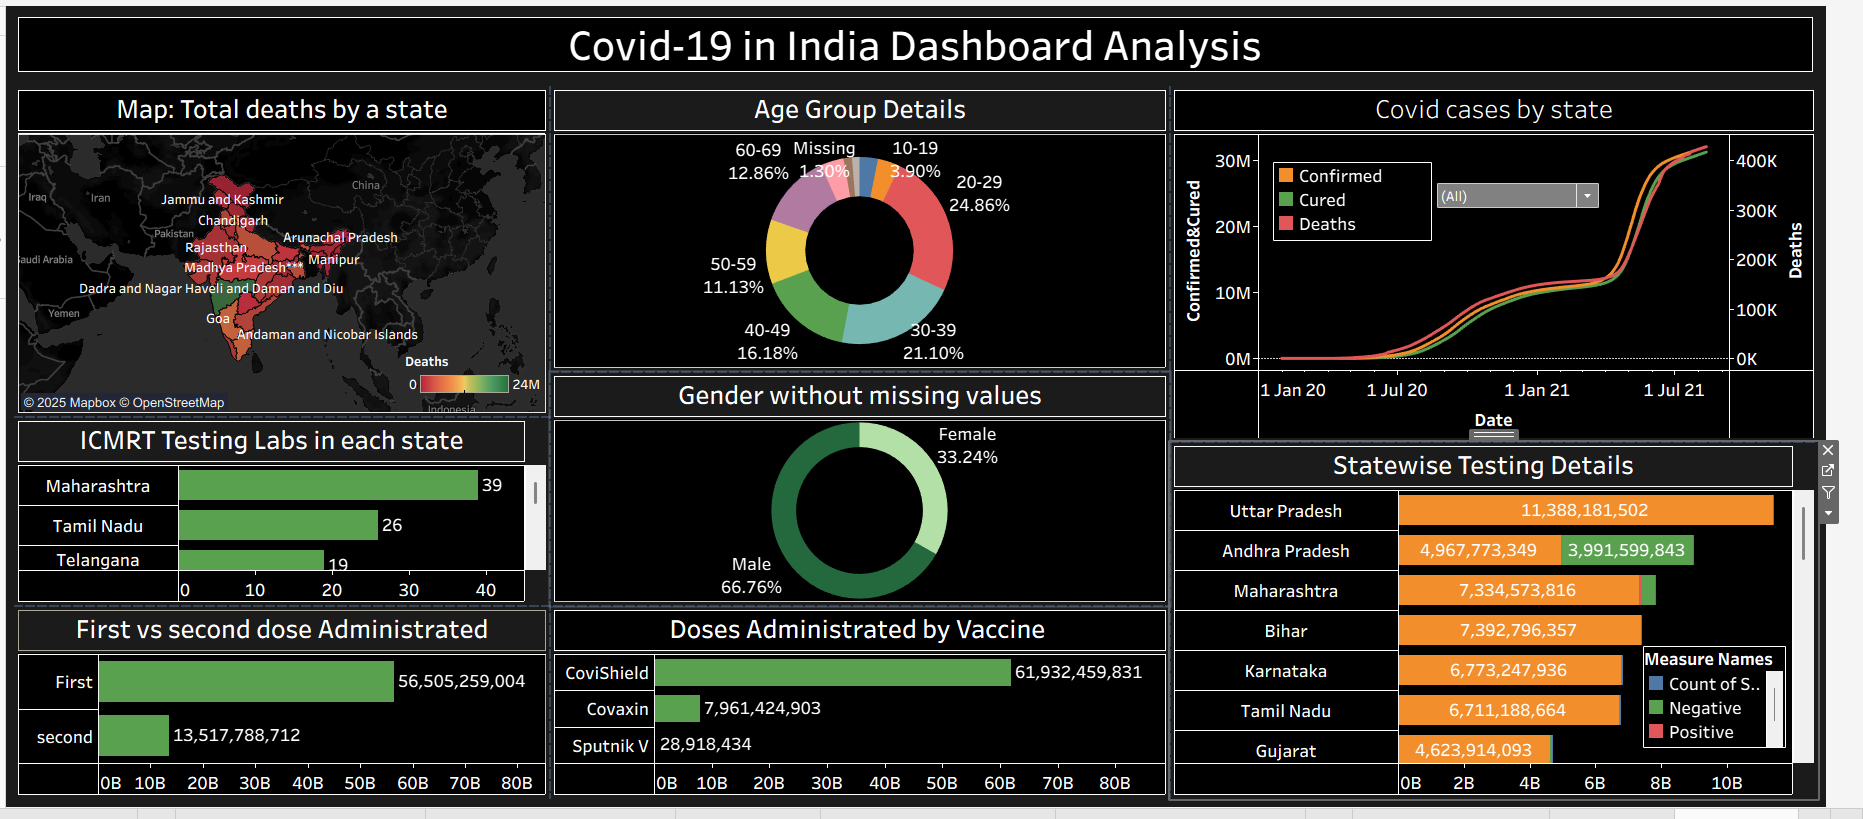

The page's visual inventory and layout, read from the dashboard file:
{"tool":"tableau","page":{"name":"Dashboard 2","canvas":[1700,800],"ordinal":1},"visuals":[{"type":"worksheet","title":"Title","mark":"Automatic","box":[8,8,1684,72.3]},{"type":"worksheet","title":"Map: Total deaths by a state","mark":"Automatic","box":[8,80.3,500.3,330.3]},{"type":"worksheet","title":"Age Group Details","mark":"Pie","rows":["Calculation_1716997393577345033","Calculation_1716997393577398283"],"box":[508.3,80.3,578.8,285.7]},{"type":"worksheet","title":"Covid cases by State","mark":"Automatic","rows":["Deaths"],"cols":["Date"],"box":[1087.1,80.3,604.9,355.8]},{"type":"filter","title":"Covid cases by State","param":"[federated.160sxe30xol3fg1ccn4xz03pmlhr].[none:State/UnionTerritory:nk]","box":[1333.9,150.6,156.9,62.8]},{"type":"legend","title":"Covid cases by State","param":"[federated.160sxe30xol3fg1ccn4xz03pmlhr].[:Measure Names]","box":[1183.5,156.9,148.5,78.5]},{"type":"legend","title":"Map: Total deaths by a state","param":"[federated.160sxe30xol3fg1ccn4xz03pmlhr].[sum:Deaths:qk]","box":[372.7,346.1,130.8,78.8]},{"type":"worksheet","title":"Gender without missing values","mark":"Pie","rows":["Calculation_1716997393585070095","Calculation_1716997393585102865"],"box":[508.3,366,578.8,233.2]},{"type":"worksheet","title":"ICMRT Testing Labs in each state","mark":"Automatic","rows":["state"],"cols":["lab"],"box":[8,410.7,500.3,188.6]},{"type":"worksheet","title":"Statewise Testing Details","mark":"Automatic","rows":["State"],"box":[1087.1,436.1,604.9,355.9]},{"type":"worksheet","title":"First vs second dose Administrated","mark":"Automatic","box":[8,599.3,500.3,192.7]},{"type":"worksheet","title":"Doses Administrated by Vaccine ","mark":"Automatic","box":[508.3,599.3,578.8,192.7]},{"type":"legend","title":"Statewise Testing Details","param":"[federated.1ndt87z0ug9v5k1cn3mwy1laeksp].[:Measure Names]","box":[1529.1,639.4,133.6,101.7]}]}

Visuals, with their boxes on the page's 1700x800 design canvas (x1, y1, x2, y2). These are canvas units, not pixel positions in the 1863x819 screenshot, which may show the page scaled, cropped or inside an application window:
"Title" worksheet: (8,8,1692,80)
"Map: Total deaths by a state" worksheet: (8,80,508,411)
"Age Group Details" worksheet (Pie marks): (508,80,1087,366)
"Covid cases by State" worksheet: (1087,80,1692,436)
"Covid cases by State" filter: (1334,151,1491,213)
"Covid cases by State" legend: (1184,157,1332,235)
"Map: Total deaths by a state" legend: (373,346,504,425)
"Gender without missing values" worksheet (Pie marks): (508,366,1087,599)
"ICMRT Testing Labs in each state" worksheet: (8,411,508,599)
"Statewise Testing Details" worksheet: (1087,436,1692,792)
"First vs second dose Administrated" worksheet: (8,599,508,792)
"Doses Administrated by Vaccine " worksheet: (508,599,1087,792)
"Statewise Testing Details" legend: (1529,639,1663,741)
